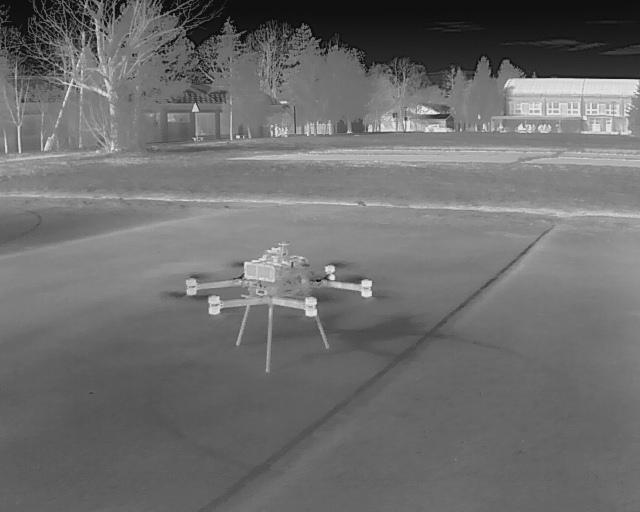drone: (176, 238, 379, 374)
